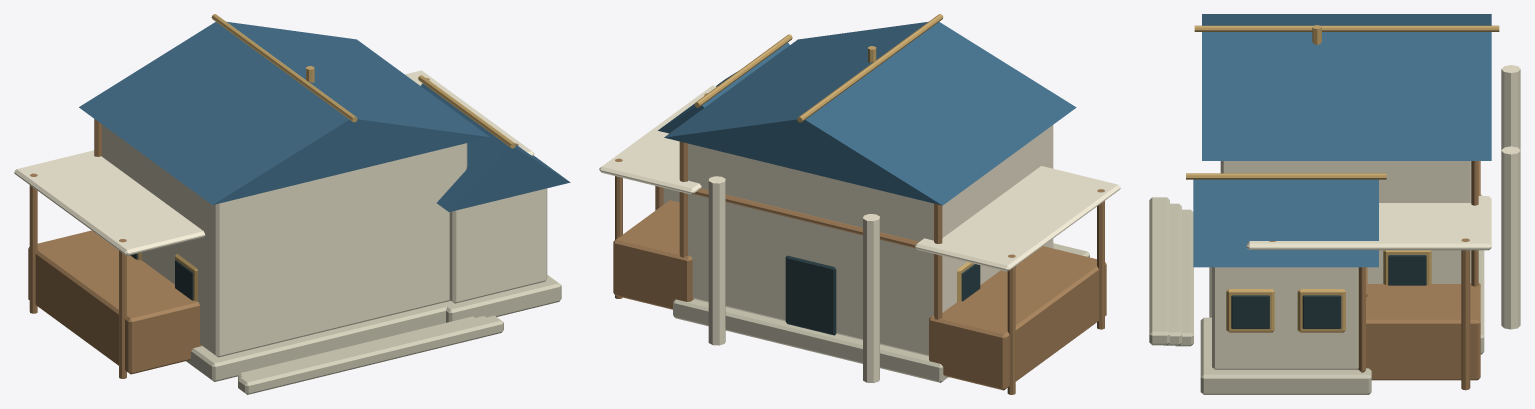
The model's file is level_23.glb.
The picture shows the model from 3 angles, left to right: view 1: azimuth 30°, elevation 25°; view 2: azimuth 150°, elevation 25°; view 3: azimuth 270°, elevation 25°; orthographic projection. The views are drawn at different scales.
Visible parts, largest first — view 1: market — level 23; view 2: market — level 23; view 3: market — level 23.
Part boxes in pixels (<box>): market — level 23: <box>14,14,570,394</box>; market — level 23: <box>599,14,1120,394</box>; market — level 23: <box>1149,14,1520,394</box>.
Size of the model in its own units: 7.08 by 3.92 by 5.
